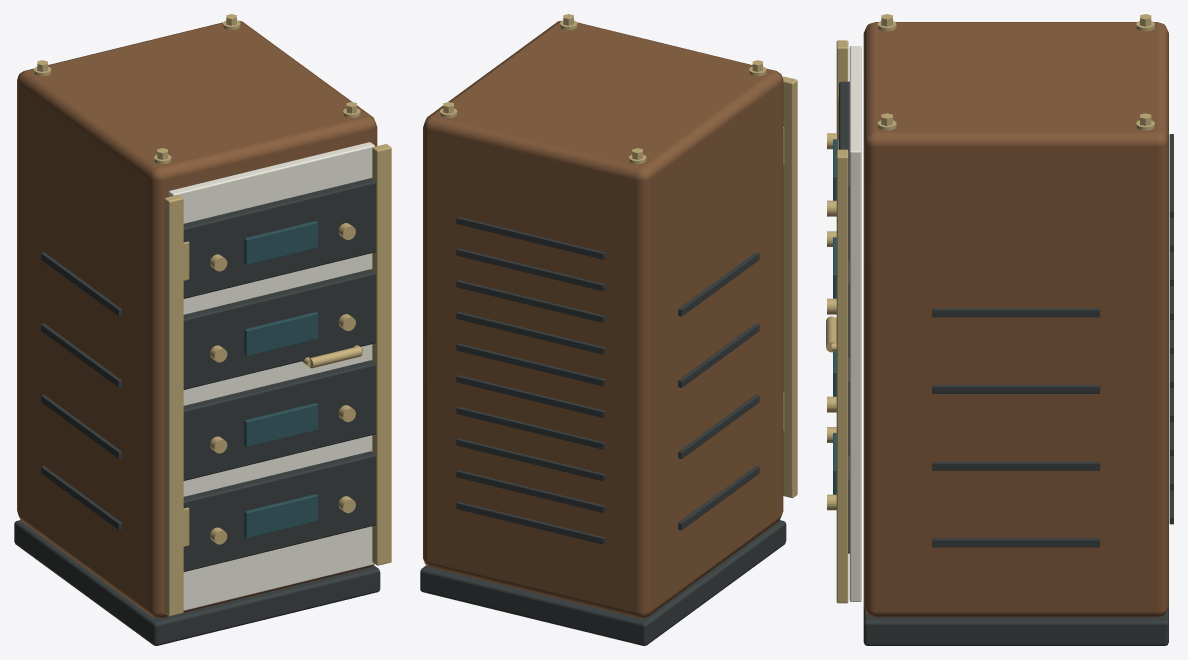
Rendered from city-courthouse-and-records-office-city-courthouse-and-9ca632d2__30984.glb.
The picture shows the model from 3 angles, left to right: view 1: azimuth 30°, elevation 25°; view 2: azimuth 150°, elevation 25°; view 3: azimuth 270°, elevation 25°; orthographic projection. The views are drawn at different scales.
Visible parts, largest first — view 1: city-courthouse-and-records-office-audio-recording-rack; view 2: city-courthouse-and-records-office-audio-recording-rack; view 3: city-courthouse-and-records-office-audio-recording-rack.
Boxes of the visible parts, x1,y1,x2,y2 form: city-courthouse-and-records-office-audio-recording-rack: [14, 14, 391, 645]; city-courthouse-and-records-office-audio-recording-rack: [420, 14, 797, 645]; city-courthouse-and-records-office-audio-recording-rack: [826, 14, 1173, 645].
Size of the model in its own units: 0.6219 by 1.23 by 0.7405.
